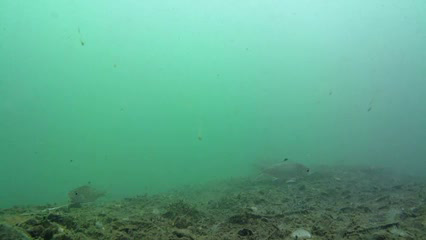smallfish: (254, 154, 320, 184), (63, 178, 124, 209)
